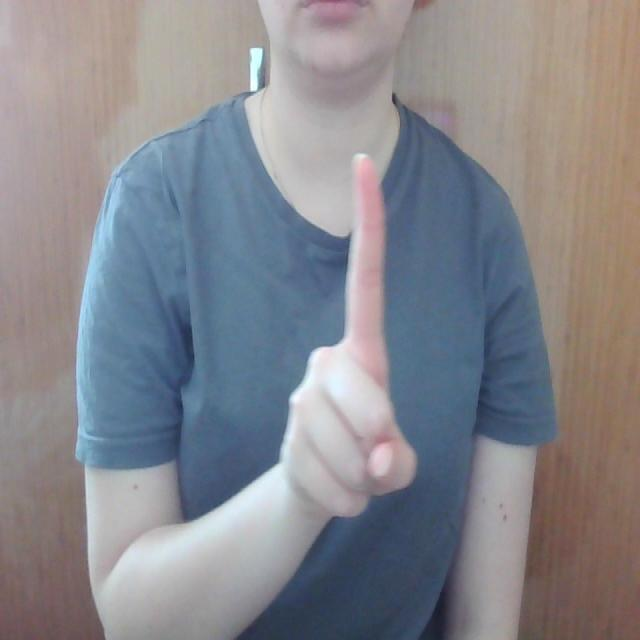Hayir: (270, 142, 426, 544)
